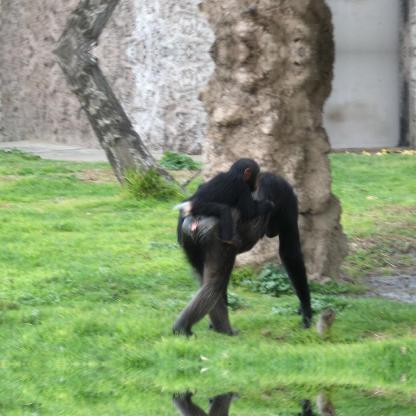Monkey: (172, 171, 324, 340), (176, 158, 274, 242)
